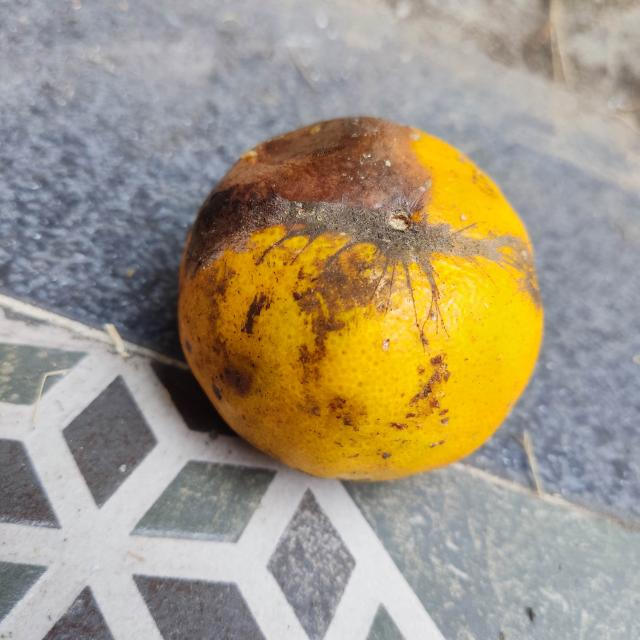orange: (173, 112, 547, 481)
